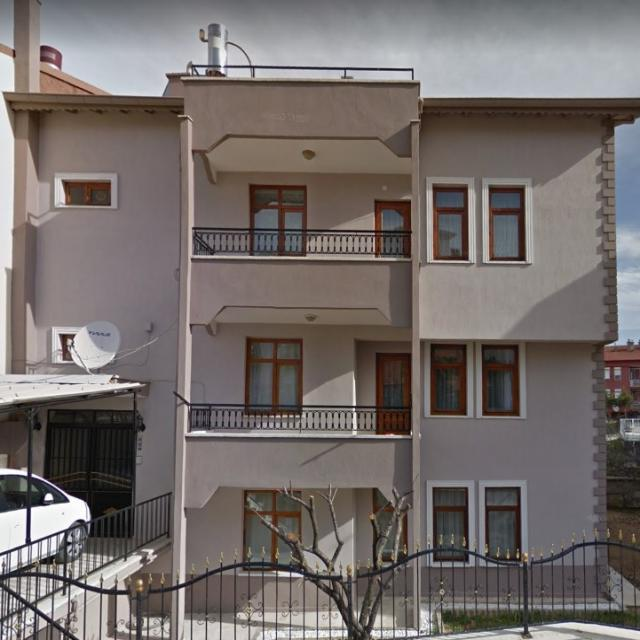Building: (4, 77, 640, 615)
